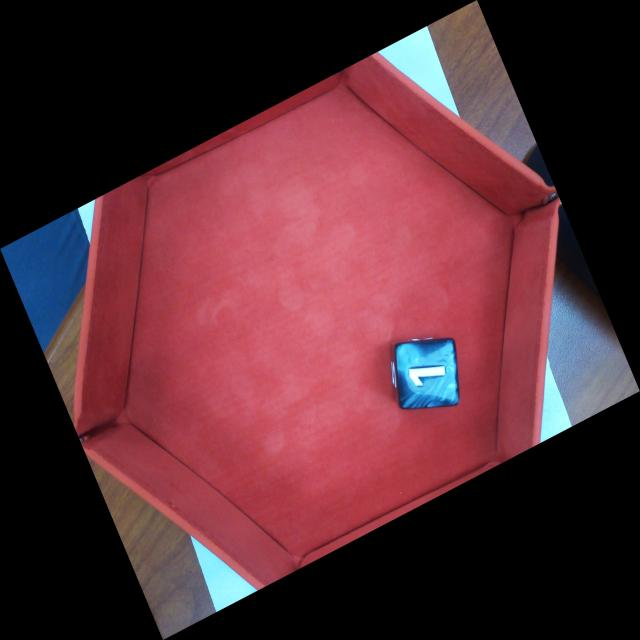dice: (398, 340, 459, 409)
